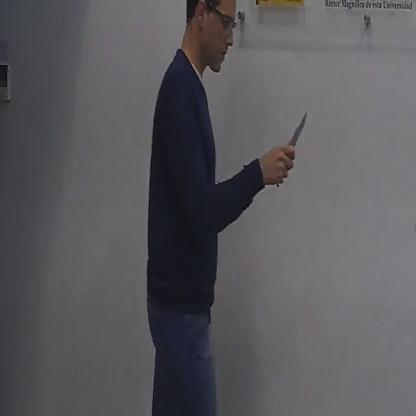knife: (274, 104, 310, 190)
